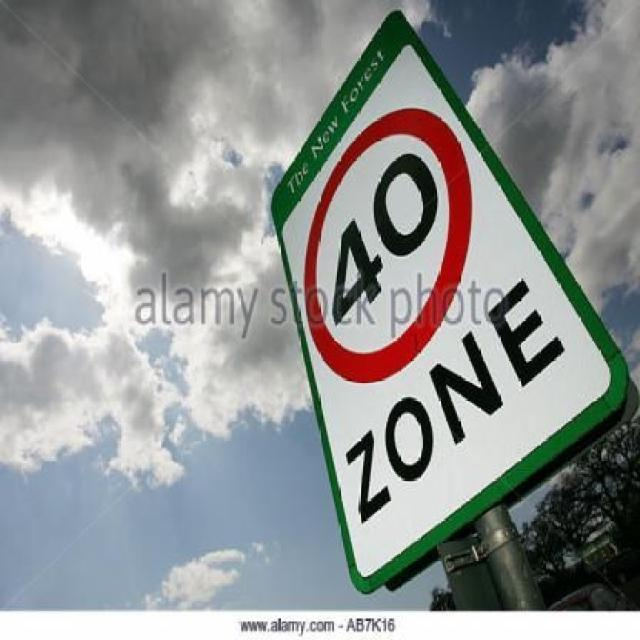forb_speed_over_40: (313, 109, 462, 374)
